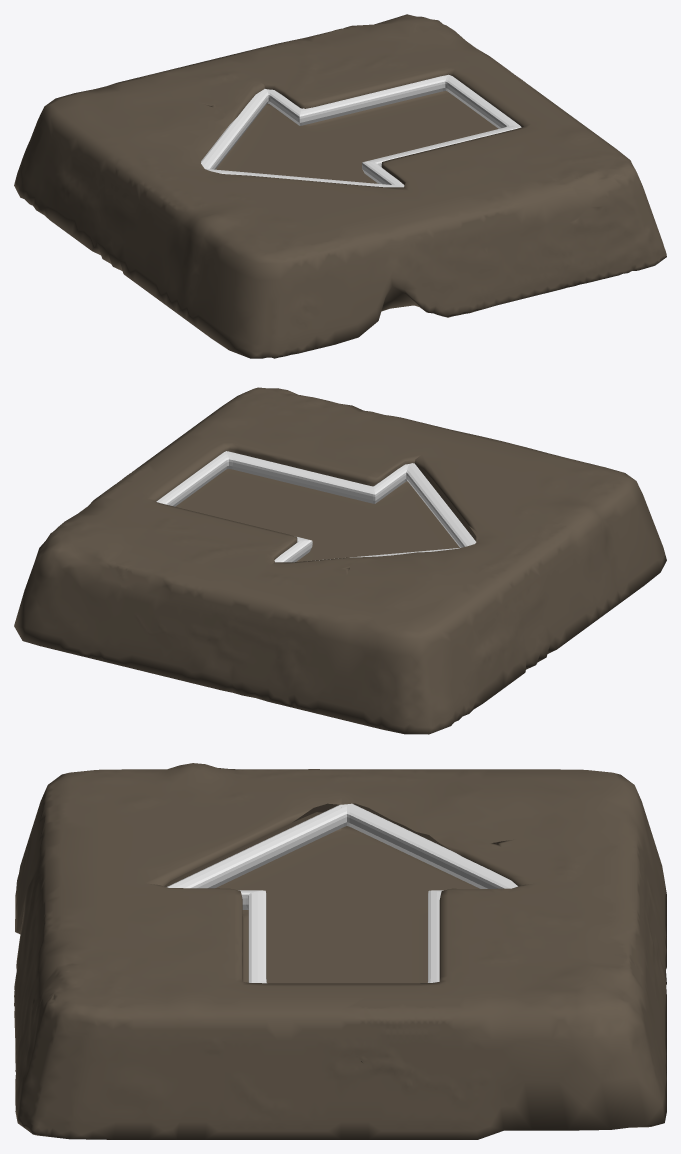
File: note.fbx
3 renders of one model, top to bottom at view 1: azimuth 30°, elevation 25°; view 2: azimuth 150°, elevation 25°; view 3: azimuth 270°, elevation 25°, orthographic. The views are drawn at different scales.
Visible parts, largest first — view 1: note_base, note_arrow; view 2: note_base, note_arrow; view 3: note_base, note_arrow.
Boxes of the visible parts, x1,y1,x2,y2 form: note_base: (14,14,666,358); note_arrow: (201,74,521,187); note_base: (14,387,666,734); note_arrow: (156,451,476,562); note_base: (14,763,666,1139); note_arrow: (167,803,517,983).
Bounding box in the file's own units: 188 × 39.85 × 188.
